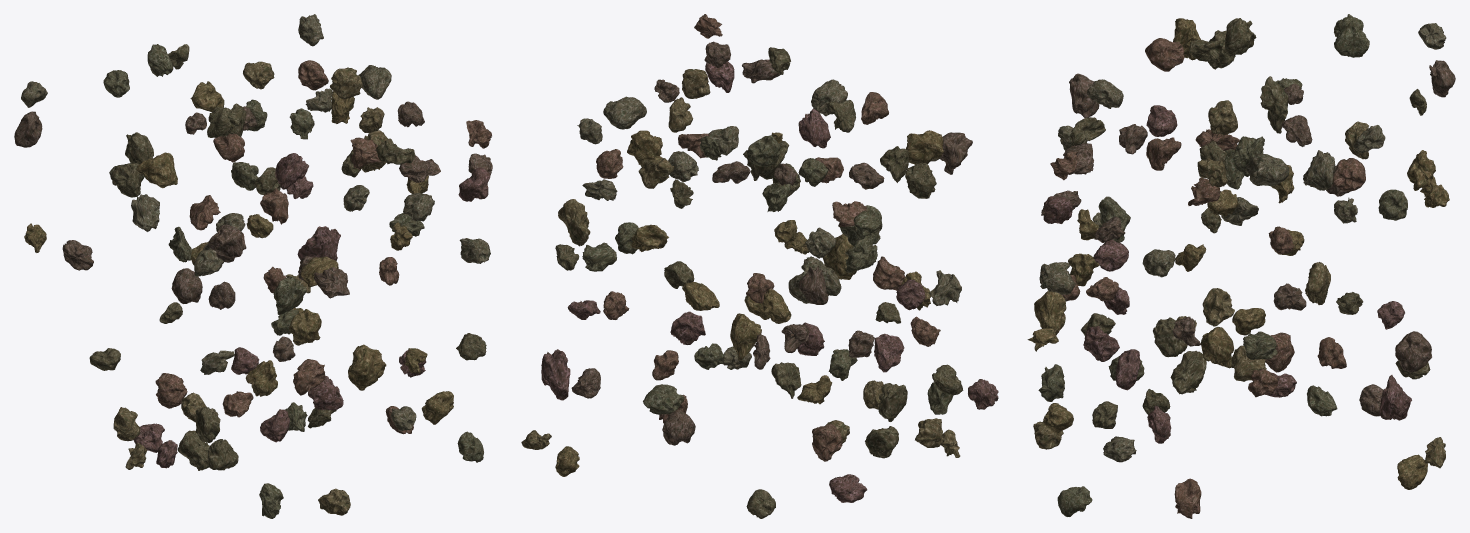
File: asteroid_field_100_x_medium-poly.glb
The picture shows the model from 3 angles, left to right: view 1: azimuth 30°, elevation 25°; view 2: azimuth 150°, elevation 25°; view 3: azimuth 270°, elevation 25°; orthographic projection. The views are drawn at different scales.
Parts seen in each view (by area): view 1: Object_21, Object_12, Object_7, Object_9, Object_2, Object_16, Object_8, Object_18, Object_5, Object_15, Object_3, Object_19 (+8 smaller); view 2: Object_18, Object_5, Object_10, Object_12, Object_16, Object_7, Object_15, Object_13, Object_9, Object_21, Object_3, Object_20 (+9 smaller); view 3: Object_8, Object_21, Object_15, Object_5, Object_3, Object_18, Object_13, Object_20, Object_12, Object_16, Object_2, Object_9 (+8 smaller).
Boxes of the visible parts, x1,y1,x2,y2 form: Object_21: (155,120,491,408); Object_12: (110,44,486,442); Object_7: (21,14,434,374); Object_9: (103,44,424,314); Object_2: (191,214,427,396); Object_16: (208,153,492,361); Object_8: (194,65,490,430); Object_18: (156,153,490,468); Object_5: (113,61,387,515); Object_15: (14,101,424,309); Object_3: (24,81,453,424); Object_19: (133,226,343,452); Object_18: (567,61,998,409); Object_5: (521,69,943,449); Object_10: (643,211,953,414); Object_12: (664,47,936,421); Object_16: (571,59,972,398); Object_7: (577,79,961,305); Object_15: (662,41,828,445); Object_13: (555,141,900,518); Object_9: (582,135,882,271); Object_21: (652,14,888,461); Object_3: (555,130,943,476); Object_20: (596,149,940,423); Object_8: (1039,79,1357,462); Object_21: (1050,38,1346,372); Object_15: (1119,60,1455,372); Object_5: (1033,100,1445,468); Object_3: (1043,18,1449,489); Object_18: (1043,105,1404,443); Object_13: (1142,76,1430,414); Object_20: (1062,158,1365,518); Object_12: (1070,30,1426,428); Object_16: (1041,73,1383,416); Object_2: (1027,189,1304,351); Object_9: (1098,14,1369,359).
Bounding box in the file's own units: 29.29 × 31.92 × 30.59.
Materials: 8 (8 with a texture image).
